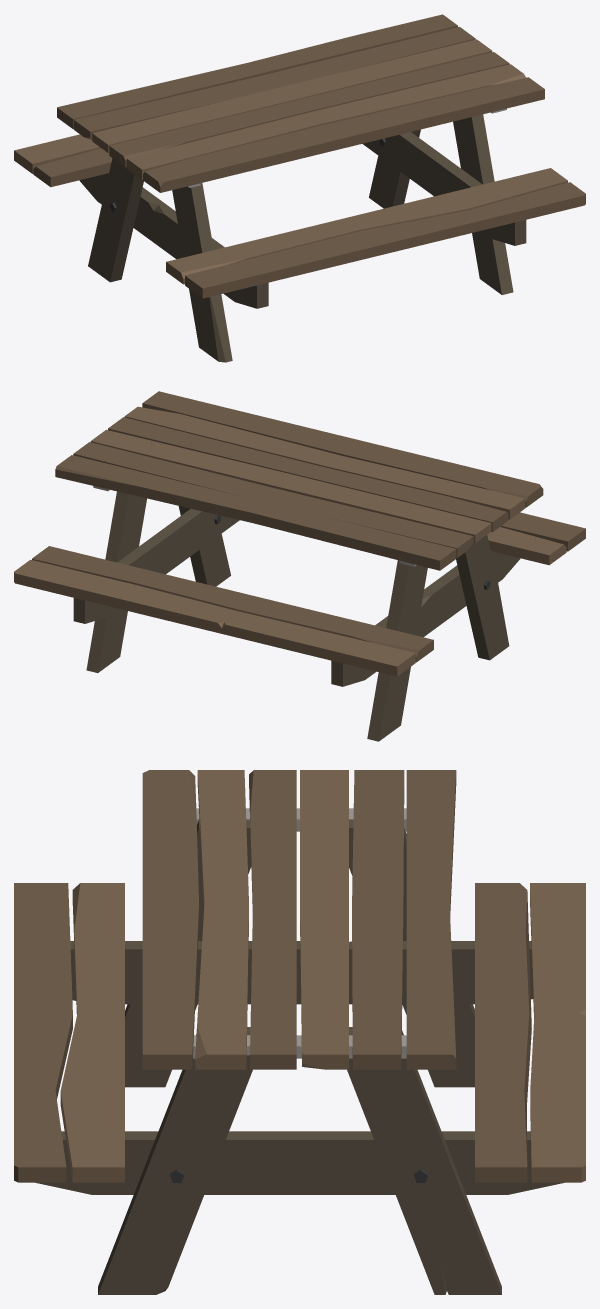
File: SM_Props_City_Beach_Chair_04.fbx
The picture shows the model from 3 angles, top to bottom: view 1: azimuth 30°, elevation 25°; view 2: azimuth 150°, elevation 25°; view 3: azimuth 270°, elevation 25°; orthographic projection. The views are drawn at different scales.
Parts seen in each view (by area): view 1: SM_Props_City_Beach_Chair_04; view 2: SM_Props_City_Beach_Chair_04; view 3: SM_Props_City_Beach_Chair_04.
Boxes of the visible parts, <box> form: SM_Props_City_Beach_Chair_04: <box>14,14,585,362</box>; SM_Props_City_Beach_Chair_04: <box>14,391,585,741</box>; SM_Props_City_Beach_Chair_04: <box>14,770,585,1294</box>.
Size of the model in its own units: 200 by 90 by 170.
